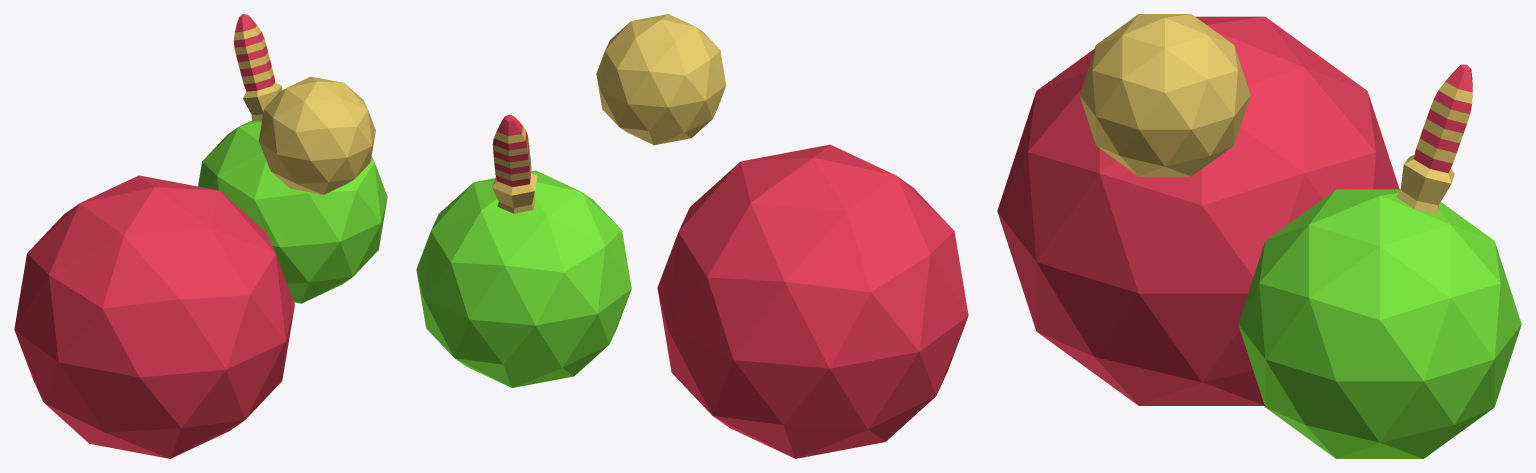
File: planets.gltf
The picture shows the model from 3 angles, left to right: view 1: azimuth 30°, elevation 25°; view 2: azimuth 150°, elevation 25°; view 3: azimuth 270°, elevation 25°; orthographic projection. The views are drawn at different scales.
Visible parts, largest first — view 1: Icosphere.002, Icosphere, Icosphere.001, Rocket; view 2: Icosphere.002, Icosphere, Icosphere.001, Rocket; view 3: Icosphere.002, Icosphere, Icosphere.001, Rocket.
Boxes of the visible parts, x1,y1,x2,y2 form: Icosphere.002: (14, 175, 294, 458); Icosphere: (198, 120, 387, 303); Icosphere.001: (258, 76, 375, 194); Rocket: (233, 14, 282, 120); Icosphere.002: (657, 144, 968, 458); Icosphere: (416, 170, 631, 387); Icosphere.001: (596, 14, 726, 145); Rocket: (492, 114, 537, 213); Icosphere.002: (997, 16, 1399, 405); Icosphere: (1238, 189, 1521, 458); Icosphere.001: (1079, 14, 1250, 176); Rocket: (1396, 64, 1472, 213).
Size of the model in its own units: 7.67 by 6.24 by 6.13.
